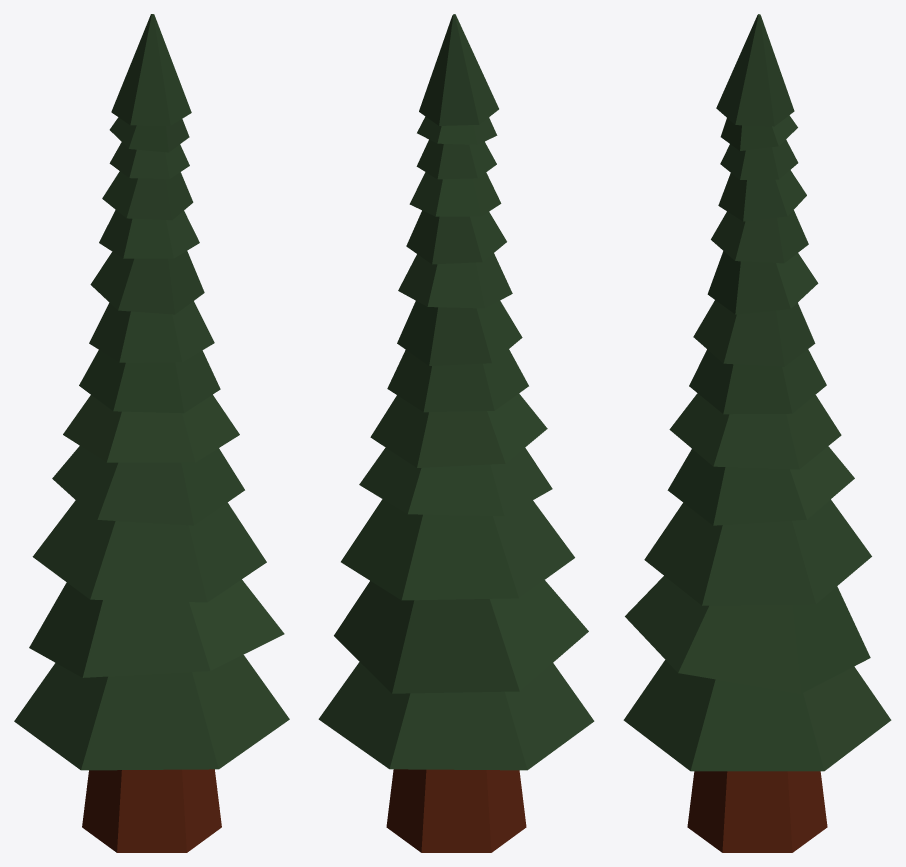
3 views of the same model, side by side, from view 1: azimuth 30°, elevation 25°; view 2: azimuth 150°, elevation 25°; view 3: azimuth 270°, elevation 25° (orthographic).
Parts seen in each view (by area): view 1: Cylinder.017; view 2: Cylinder.017; view 3: Cylinder.017.
Boxes of the visible parts, x1,y1,x2,y2 form: Cylinder.017: [14, 14, 289, 852]; Cylinder.017: [318, 14, 594, 852]; Cylinder.017: [623, 14, 891, 852].
Bounding box in the file's own units: 345 × 1281 × 382.
